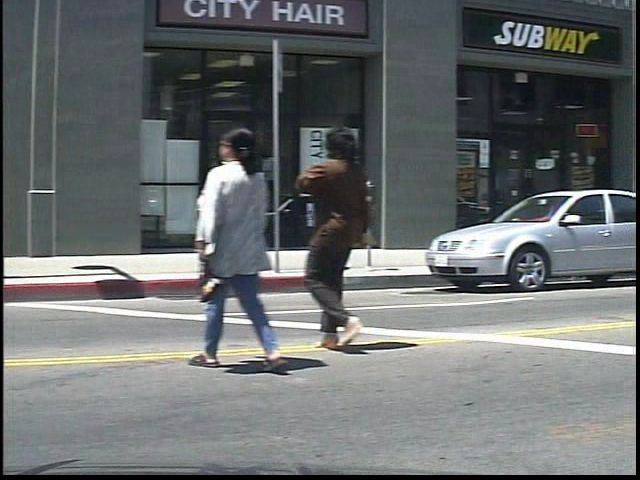person: (200, 122, 301, 373), (303, 121, 391, 355)
